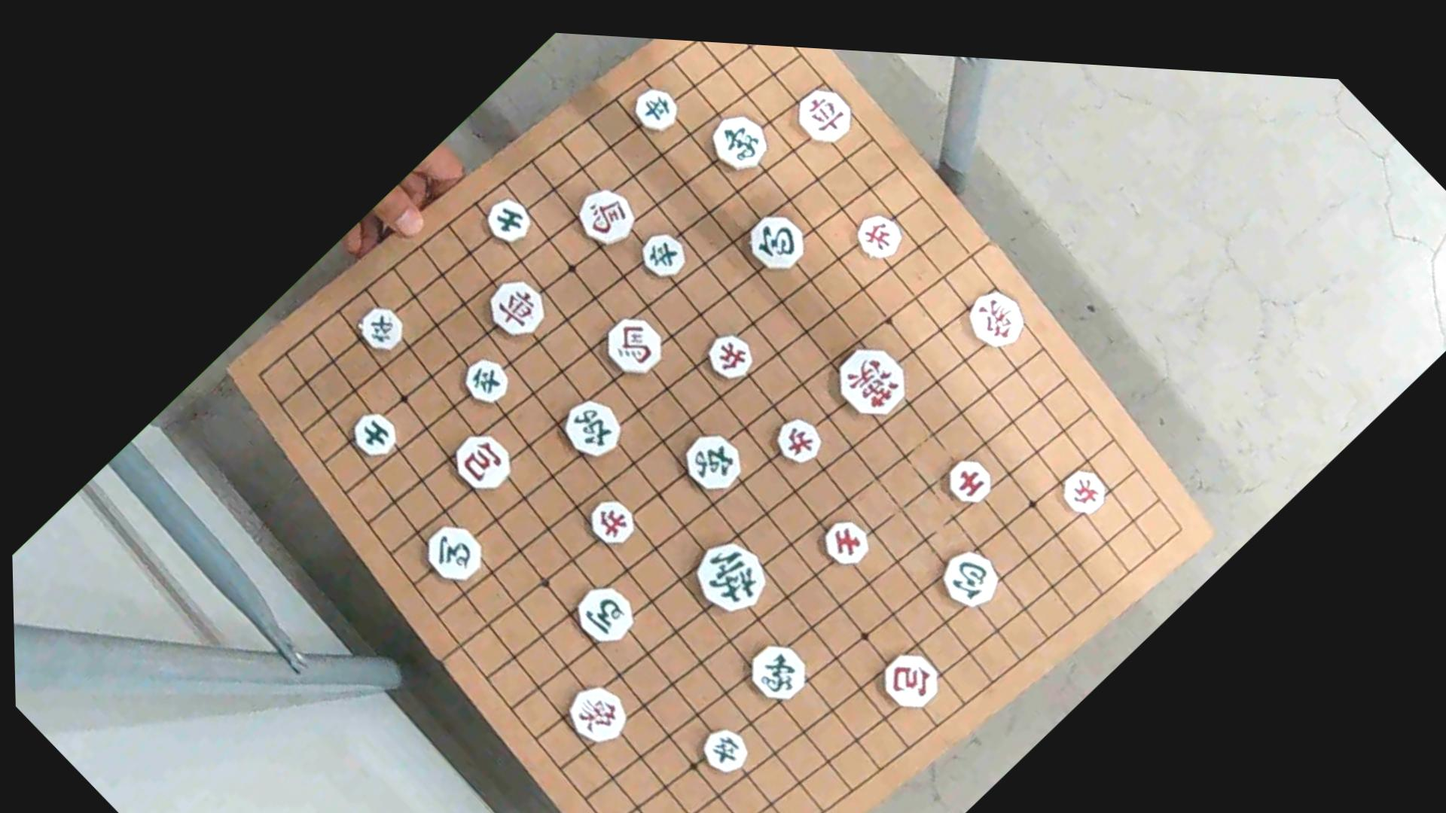cha_green: (673, 422, 752, 504), (555, 389, 630, 466)
cha_red: (479, 269, 554, 348), (787, 76, 861, 153)
jol_green: (694, 720, 754, 783), (625, 81, 685, 142), (351, 297, 411, 358), (635, 226, 692, 285), (458, 353, 514, 412)
jol_red: (767, 408, 828, 471), (847, 206, 907, 268), (583, 491, 643, 553), (1055, 463, 1114, 524), (702, 325, 761, 385)
ma_green: (566, 573, 645, 654), (413, 512, 490, 592)
ma_red: (593, 306, 671, 388), (569, 178, 642, 253)
po_green: (735, 200, 814, 282), (932, 540, 1008, 618)
po_red: (443, 421, 519, 500), (871, 641, 947, 720)
sa_green: (343, 402, 404, 464), (479, 190, 537, 251)
sa_red: (816, 510, 878, 574), (940, 452, 995, 509)
sang_green: (739, 632, 816, 712), (703, 102, 778, 180)
sang_red: (556, 673, 636, 756), (959, 279, 1036, 358)
wang_green: (684, 527, 777, 624)
wang_red: (826, 335, 917, 428)
